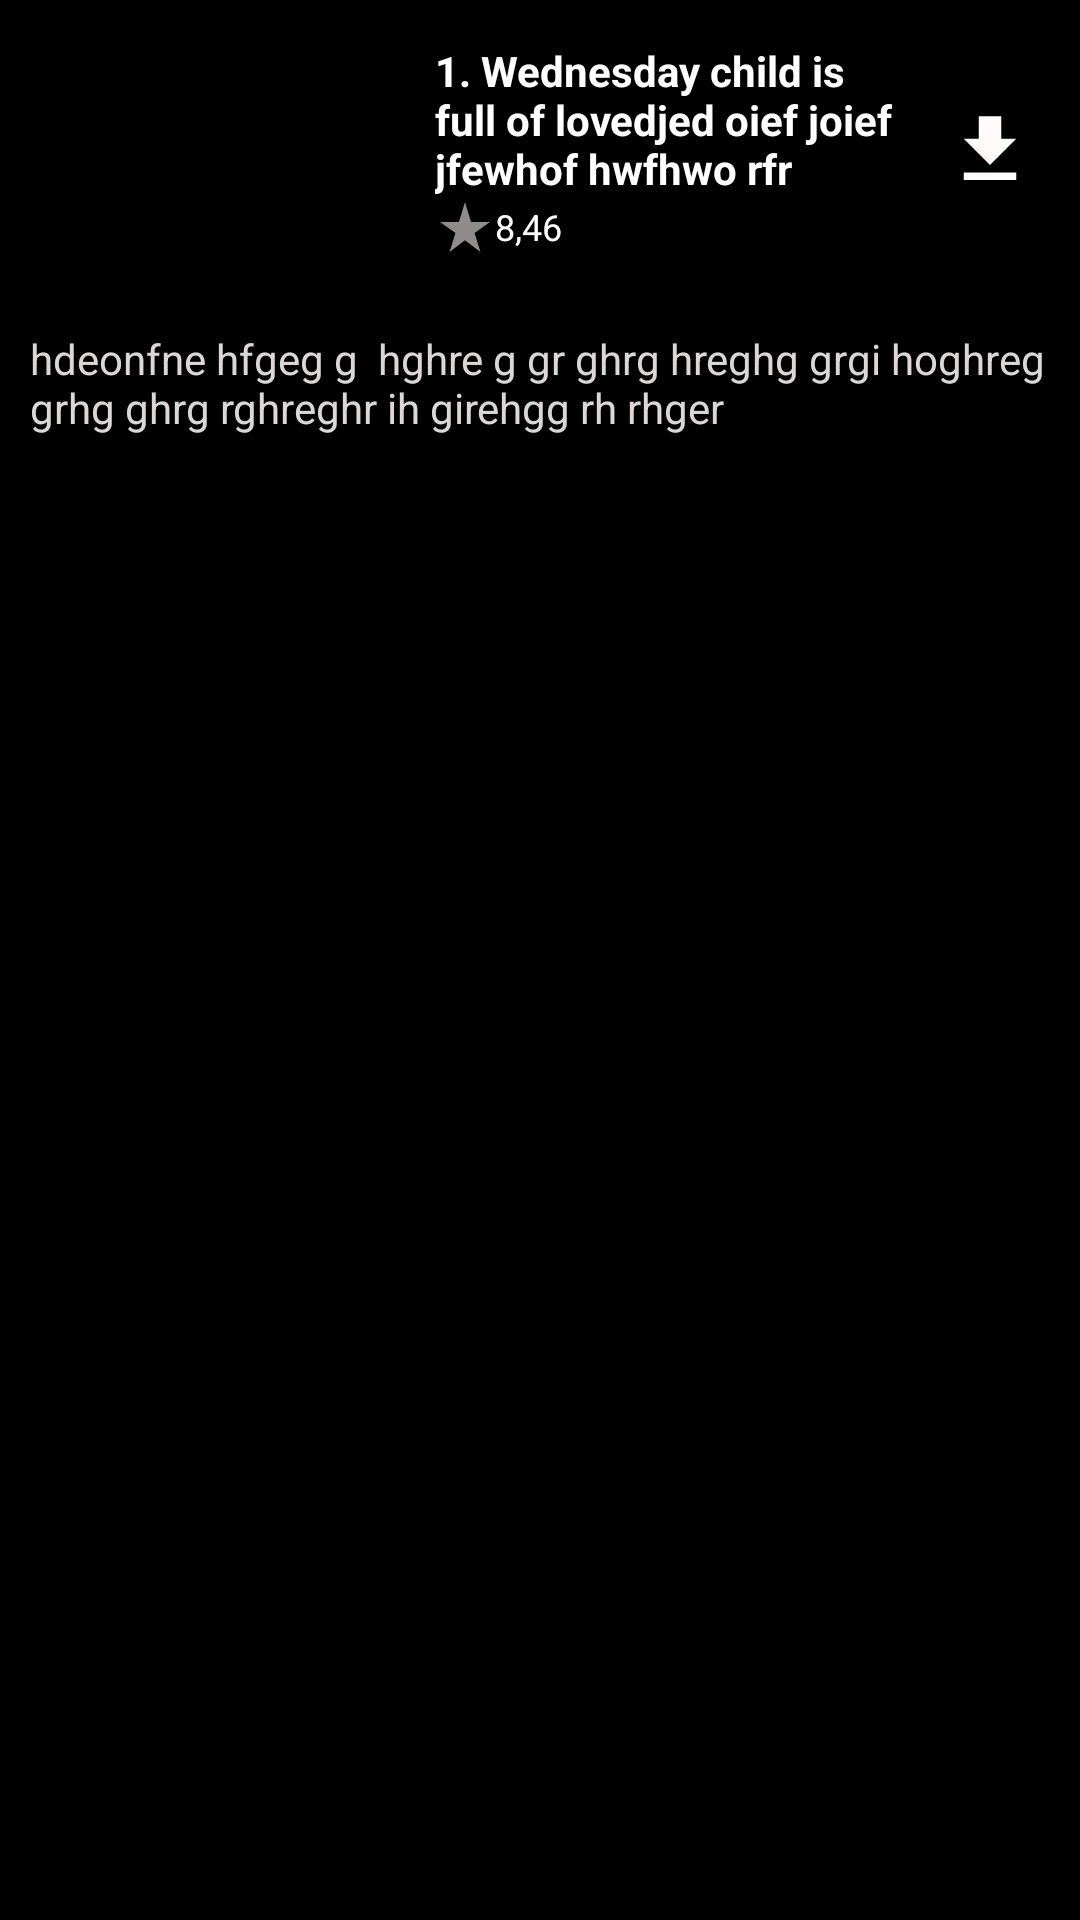

Icons on this 1080w x 1920h Android screen, each with the point to tap as (x,y):
download: (990,148)
staricon: (465,227)
